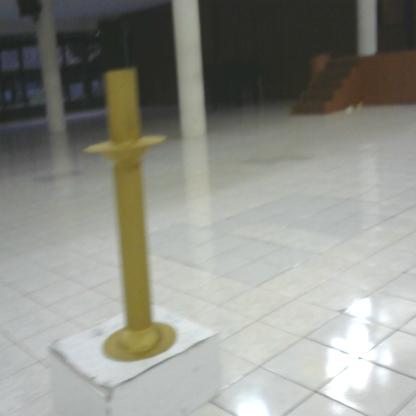pole: (79, 62, 183, 370)
